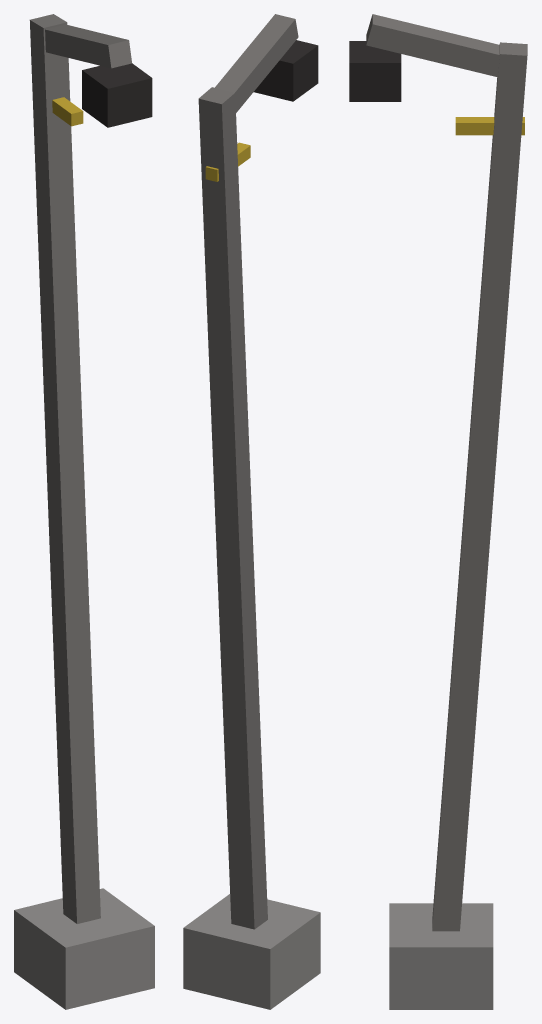
The model's file is B_pole_c.glb.
3 renders of one model, left to right at view 1: azimuth 30°, elevation 25°; view 2: azimuth 150°, elevation 25°; view 3: azimuth 270°, elevation 25°, orthographic. The views are drawn at different scales.
Parts seen in each view (by area): view 1: Cube, Cube.004, Cube.002, Cube.001, Cube.003; view 2: Cube, Cube.004, Cube.001, Cube.002, Cube.003; view 3: Cube, Cube.004, Cube.001, Cube.002, Cube.003.
Part boxes in pixels (x1,y1,x2,y2): Cube: [29, 14, 100, 923]; Cube.004: [14, 888, 154, 1009]; Cube.002: [82, 63, 152, 127]; Cube.001: [45, 24, 131, 68]; Cube.003: [52, 97, 83, 126]; Cube: [198, 87, 267, 929]; Cube.004: [183, 894, 320, 1009]; Cube.001: [215, 14, 298, 112]; Cube.002: [254, 40, 318, 101]; Cube.003: [205, 142, 250, 181]; Cube: [432, 42, 527, 931]; Cube.004: [389, 903, 493, 1009]; Cube.001: [366, 14, 499, 77]; Cube.002: [349, 41, 401, 101]; Cube.003: [455, 117, 524, 135].
Size of the model in its own units: 0.6 by 6.18 by 1.03.
